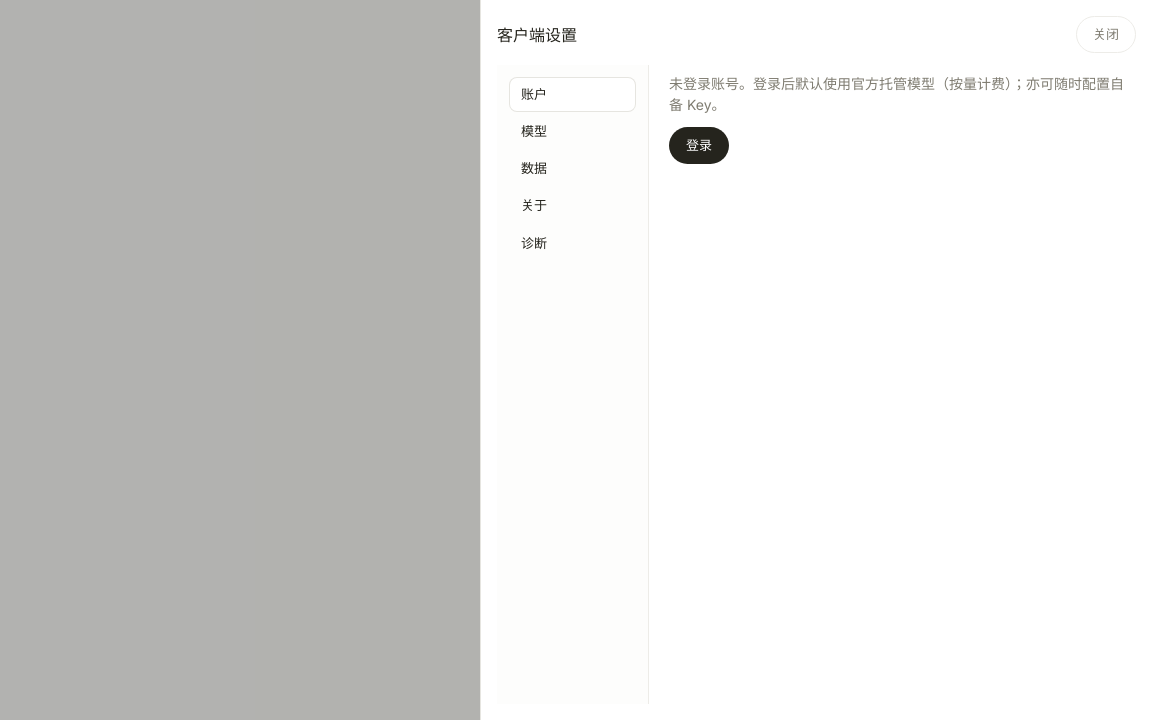
Test case: DesktopSettingsDrawer 检查更新 › 查新失败 → 展示错误信息且按钮回到可点的「检查更新」
Click the button "关于".
click(572, 206)  # box [509,189,636,224]
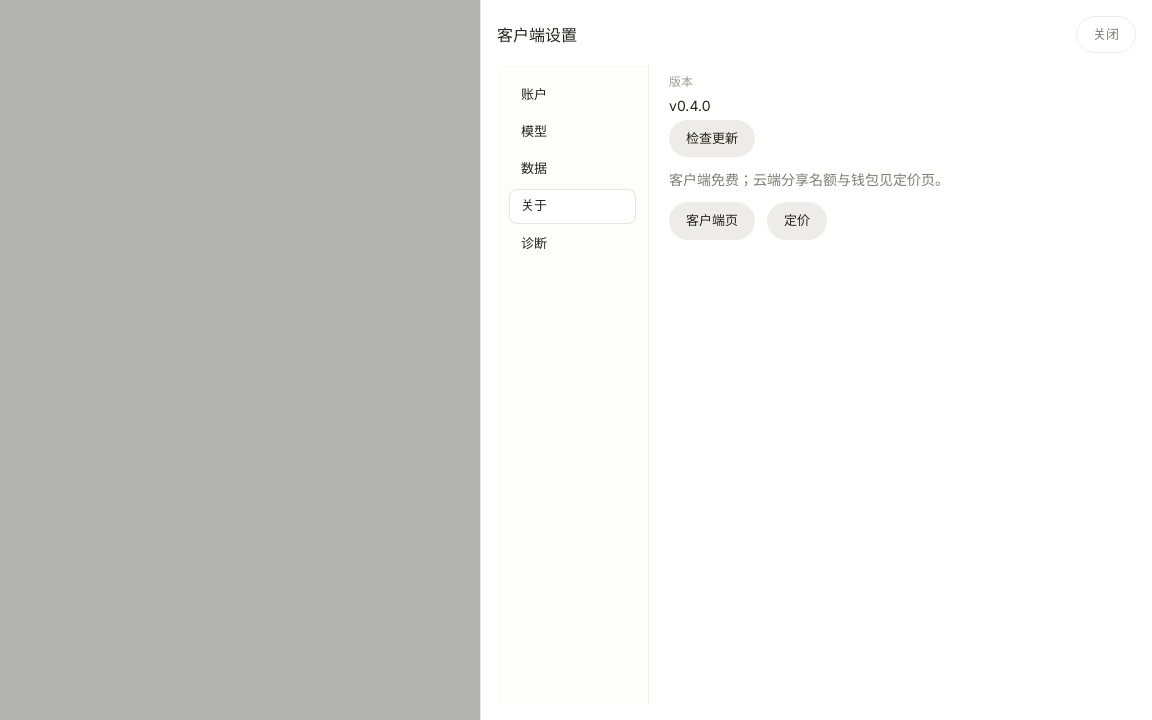
Click the button "检查更新".
click(712, 139)  # box [669,120,755,157]
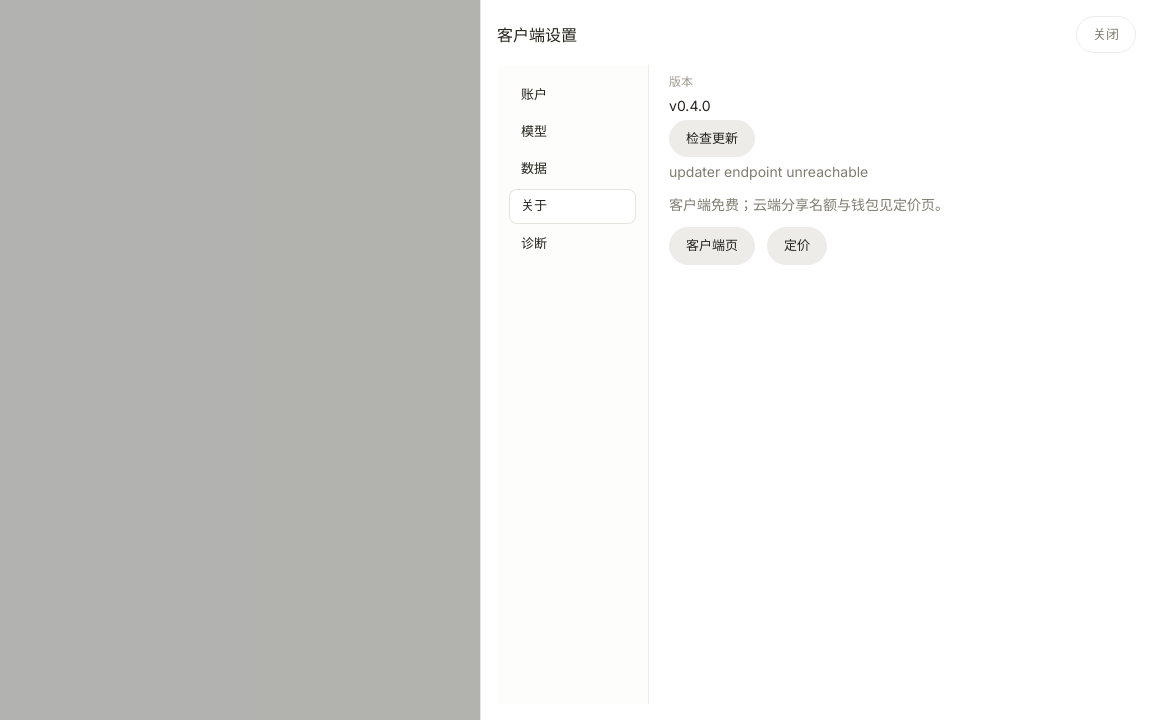
Check: the button "检查更新" is enabled, box [669,120,755,157]
Check: the text "updater endpoint unreachable" is shown, box [669,164,868,180]
